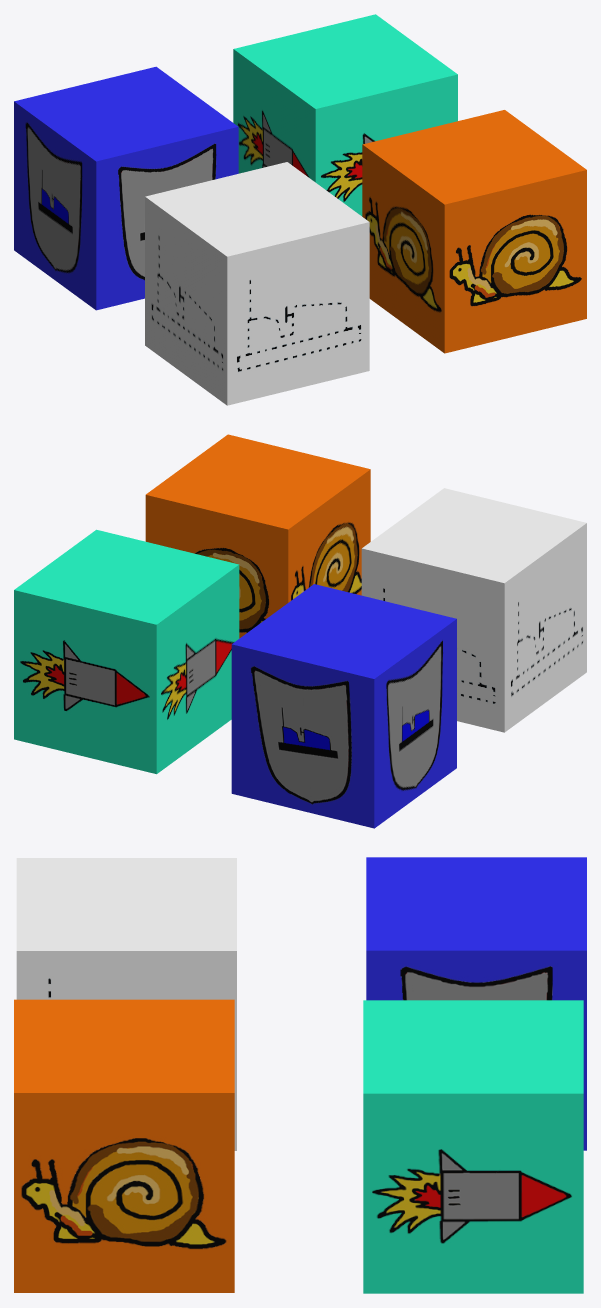
Rendered from power_up.FBX.
3 views of the same model, one above another, from view 1: azimuth 30°, elevation 25°; view 2: azimuth 150°, elevation 25°; view 3: azimuth 270°, elevation 25° (orthographic). The views are drawn at different scales.
Visible parts, largest first — view 1: powerup_invisivel, Box001, powerup_escudo, powerup_turbo; view 2: powerup_escudo, powerup_turbo, powerup_invisivel, Box001; view 3: powerup_turbo, Box001, powerup_escudo, powerup_invisivel.
Part boxes in pixels (x1,y1,x2,y2): powerup_invisivel: [145, 162, 369, 405]; Box001: [362, 110, 586, 353]; powerup_escudo: [14, 66, 238, 310]; powerup_turbo: [233, 14, 457, 216]; powerup_escudo: [231, 584, 456, 828]; powerup_turbo: [14, 529, 239, 774]; powerup_invisivel: [361, 488, 586, 732]; Box001: [145, 434, 370, 638]; powerup_turbo: [363, 1000, 583, 1293]; Box001: [14, 999, 234, 1292]; powerup_escudo: [366, 857, 586, 1150]; powerup_invisivel: [16, 858, 236, 1150].
Bounding box in the file's own units: 59.84 × 23.62 × 61.37.
